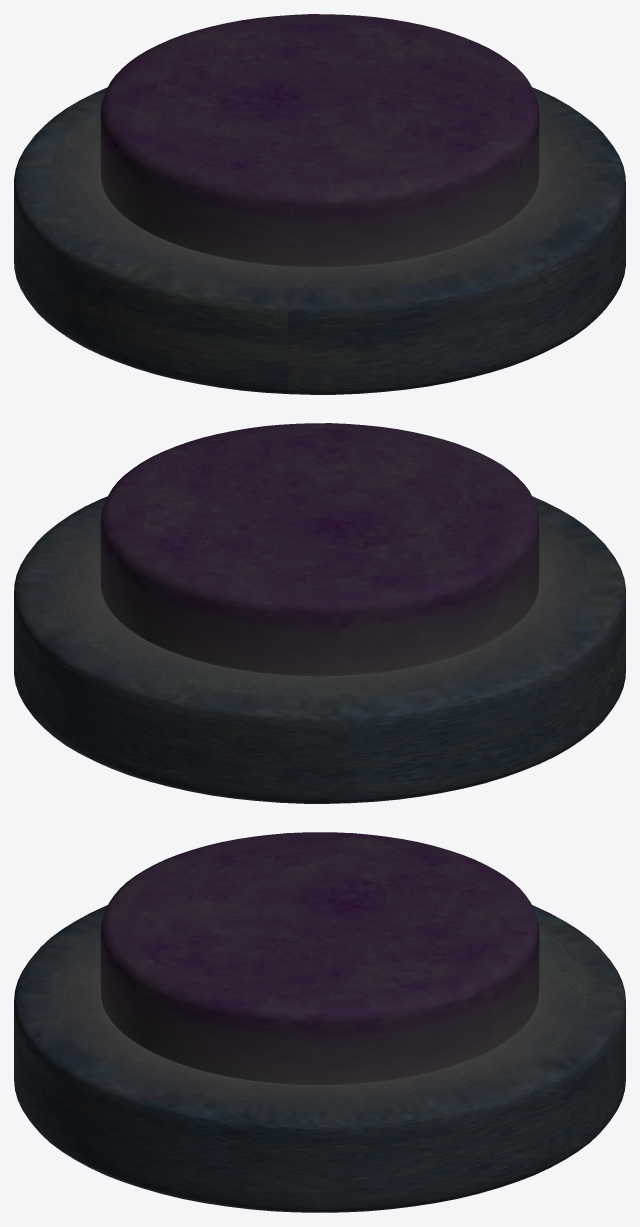
File: button.glb
The picture shows the model from 3 angles, top to bottom: view 1: azimuth 30°, elevation 25°; view 2: azimuth 150°, elevation 25°; view 3: azimuth 270°, elevation 25°; orthographic projection.
Parts seen in each view (by area): view 1: pCylinder4, pCylinder3; view 2: pCylinder4, pCylinder3; view 3: pCylinder4, pCylinder3.
Part boxes in pixels (x1,y1,x2,y2): pCylinder4: (14,87,625,394); pCylinder3: (100,14,539,267); pCylinder4: (14,496,625,803); pCylinder3: (100,423,539,676); pCylinder4: (14,905,625,1212); pCylinder3: (100,832,539,1085).
Size of the model in its own units: 0.9818 by 0.3025 by 0.9818.
1 material, 1 textured.
